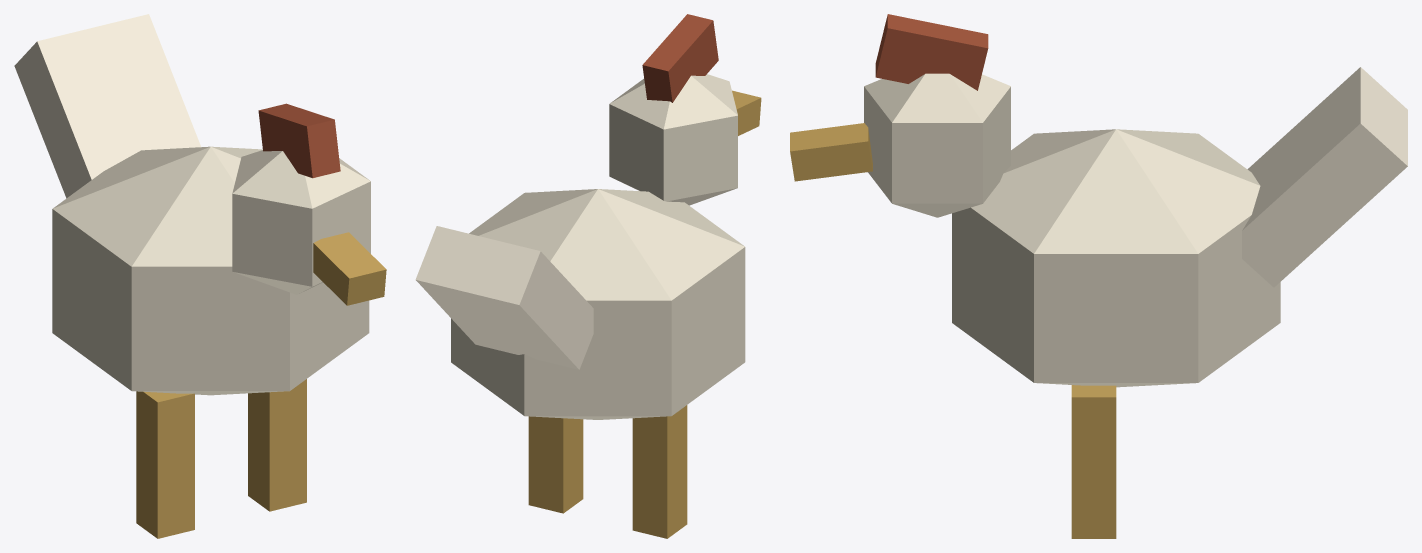
File: animal-hen.glb
3 views of the same model, side by side, from view 1: azimuth 30°, elevation 25°; view 2: azimuth 150°, elevation 25°; view 3: azimuth 270°, elevation 25° (orthographic). The views are drawn at different scales.
Visible parts, largest first — view 1: Body, Head; view 2: Body, Head; view 3: Body, Head.
Part boxes in pixels (x1=…): Body: x1=14, y1=14, x2=369, y2=538; Head: x1=232, y1=103, x2=386, y2=305; Body: x1=415, y1=189, x2=745, y2=538; Head: x1=609, y1=14, x2=761, y2=205; Body: x1=952, y1=67, x2=1407, y2=538; Head: x1=790, y1=14, x2=1010, y2=217.
Size of the model in its own units: 0.255 by 0.4744 by 0.5533.
Materials: 1 (1 with a texture image).
